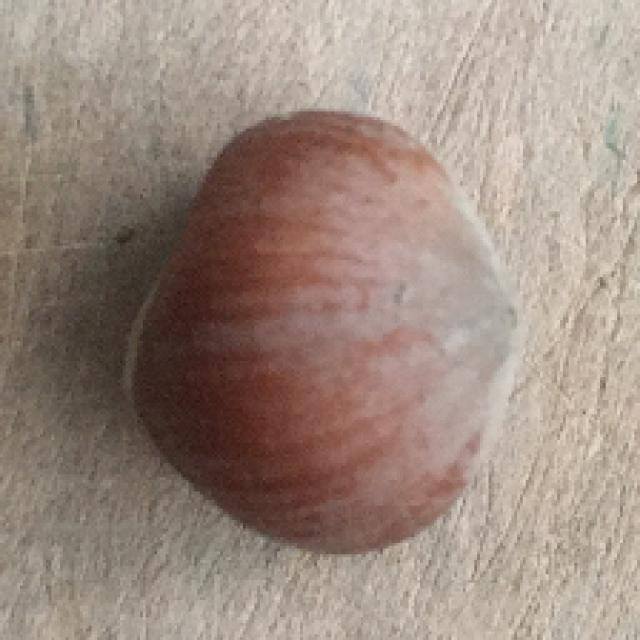qualityHazelnut: (123, 108, 526, 555)
